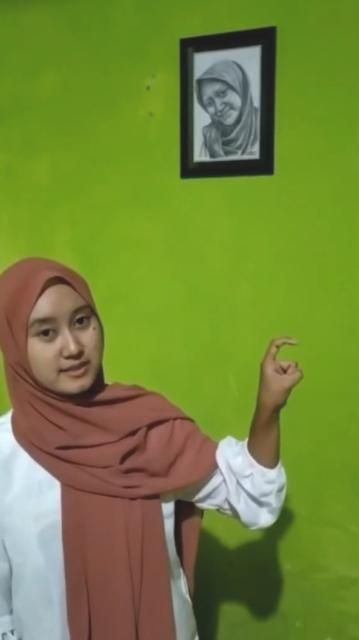X: (254, 330, 308, 412)
